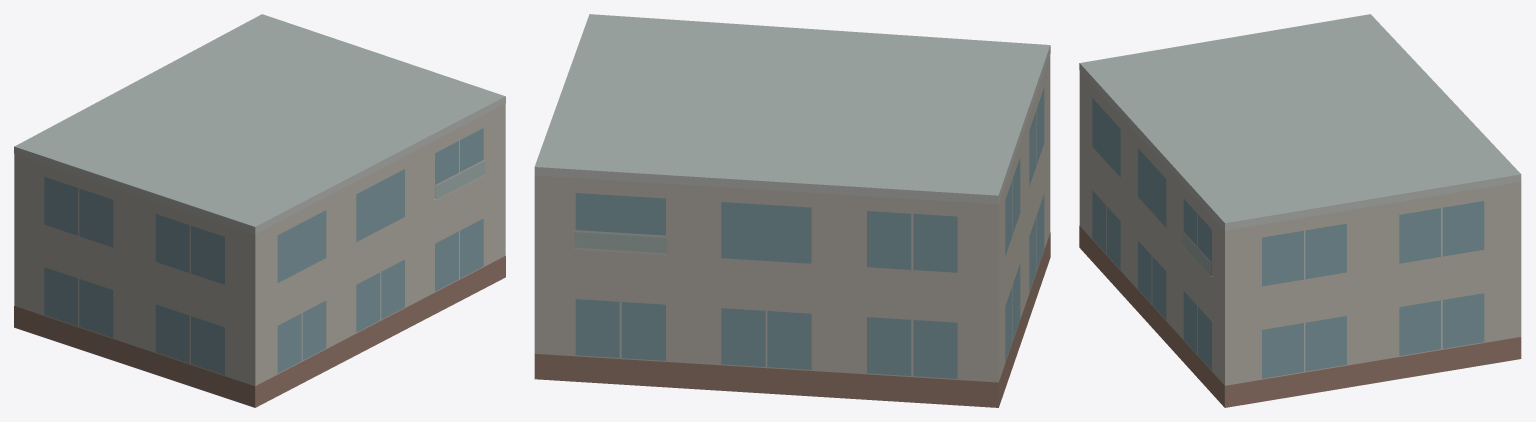
Rendered from survey-upis-32800595.glb.
3 views of the same model, side by side, from view 1: azimuth 30°, elevation 25°; view 2: azimuth 150°, elevation 25°; view 3: azimuth 270°, elevation 25° (orthographic). The views are drawn at different scales.
Visible parts, largest first — view 1: survey-upis-32800595.tmp; view 2: survey-upis-32800595.tmp; view 3: survey-upis-32800595.tmp.
Boxes of the visible parts, x1,y1,x2,y2 form: survey-upis-32800595.tmp: (14,14,505,407); survey-upis-32800595.tmp: (534,14,1050,407); survey-upis-32800595.tmp: (1079,14,1521,407).
Bounding box in the file's own units: 14.84 × 6.1 × 13.24.
